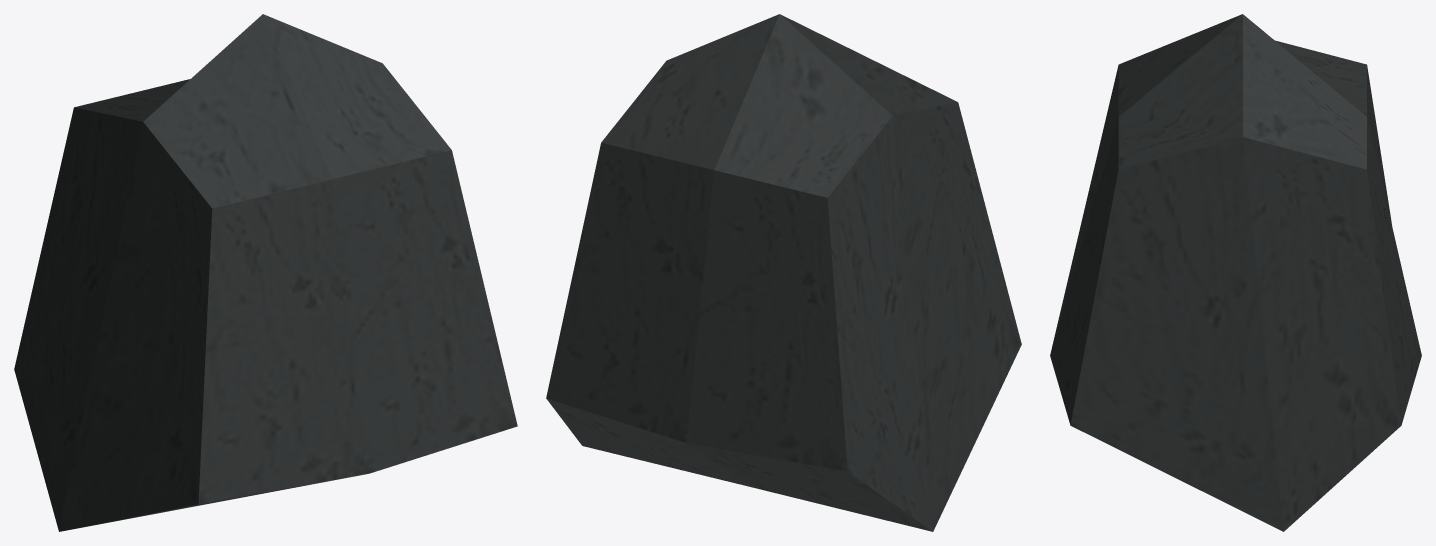
File: MKU_trash_bag_single_black_fin.fbx
3 renders of one model, left to right at view 1: azimuth 30°, elevation 25°; view 2: azimuth 150°, elevation 25°; view 3: azimuth 270°, elevation 25°, orthographic. The views are drawn at different scales.
Visible parts, largest first — view 1: Cube; view 2: Cube; view 3: Cube.
Boxes of the visible parts, x1,y1,x2,y2 form: Cube: [14, 14, 517, 531]; Cube: [546, 14, 1021, 531]; Cube: [1050, 14, 1421, 531].
Size of the model in its own units: 244 by 308 by 237.
